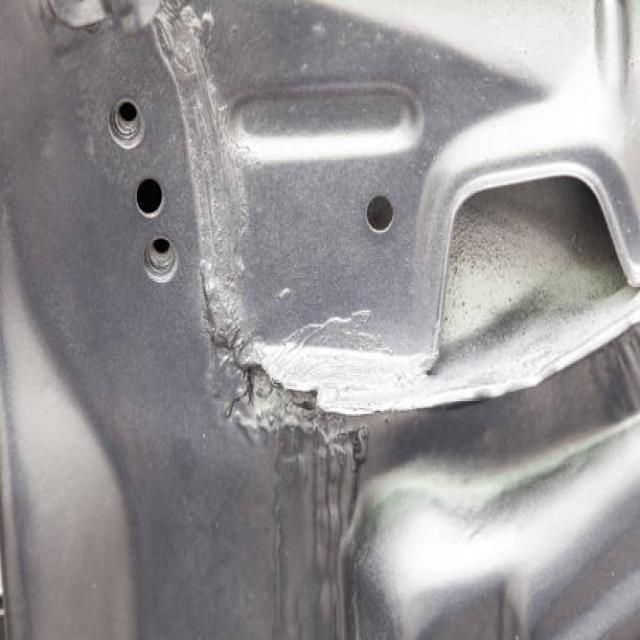Bad Weld: (194, 257, 362, 461)
